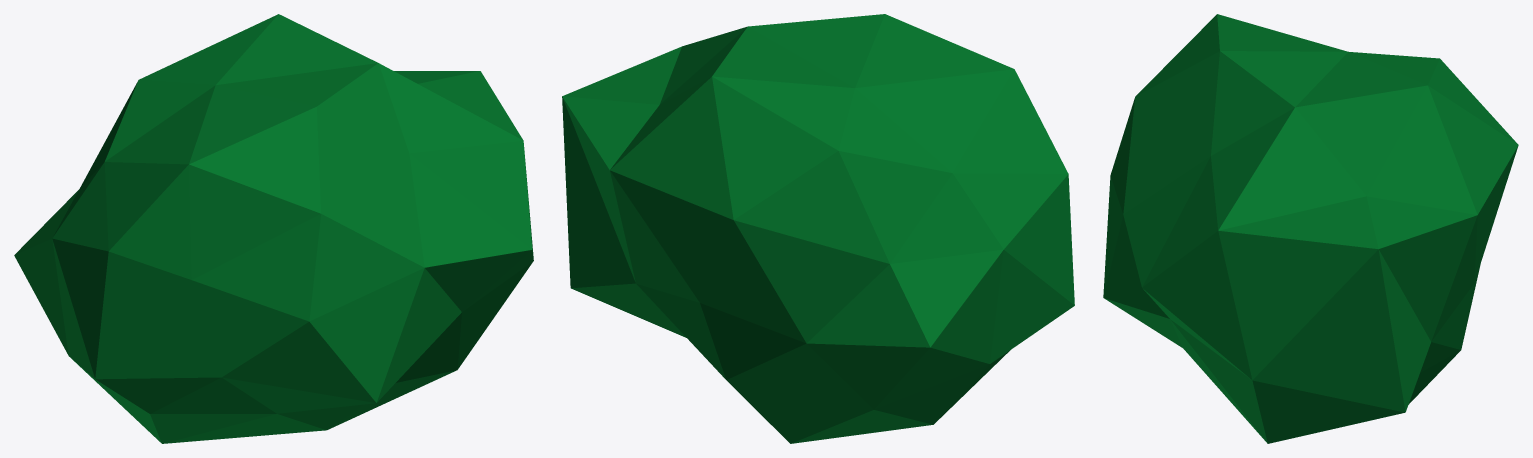
Rendered from Bush1.fbx.
The picture shows the model from 3 angles, left to right: view 1: azimuth 30°, elevation 25°; view 2: azimuth 150°, elevation 25°; view 3: azimuth 270°, elevation 25°; orthographic projection. The views are drawn at different scales.
Parts seen in each view (by area): view 1: bush; view 2: bush; view 3: bush.
Part boxes in pixels (bbox=[...]): bush: bbox=[14, 14, 533, 443]; bush: bbox=[562, 14, 1074, 443]; bush: bbox=[1103, 14, 1518, 443].
Size of the model in its own units: 3.89 by 3 by 3.17.
